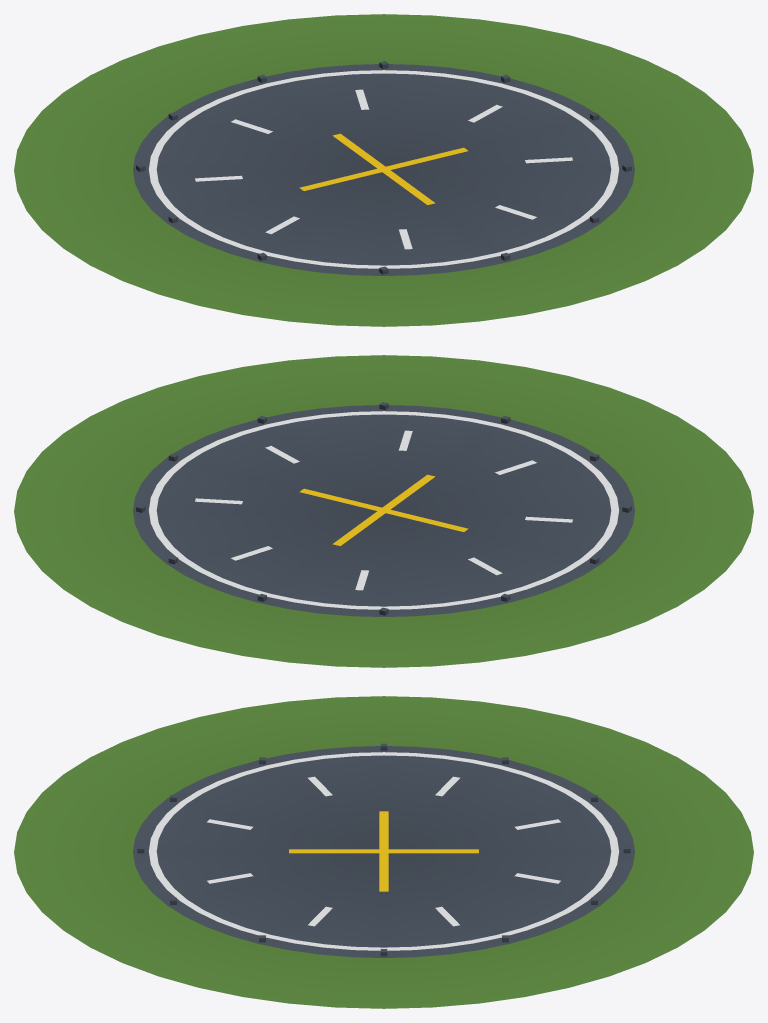
File: hangar.glb
3 views of the same model, one above another, from view 1: azimuth 30°, elevation 25°; view 2: azimuth 150°, elevation 25°; view 3: azimuth 270°, elevation 25° (orthographic).
Visible parts, largest first — view 1: palette_ground, tarmac, paint_white, paint_yellow; view 2: palette_ground, tarmac, paint_white, paint_yellow; view 3: palette_ground, tarmac, paint_white, paint_yellow.
Part boxes in pixels (x1,y1,x2,y2): palette_ground: (14,14,753,326); tarmac: (133,61,634,275); paint_white: (148,70,619,268); paint_yellow: (299,133,467,204); palette_ground: (14,355,753,667); tarmac: (133,402,634,616); paint_white: (148,411,619,609); paint_yellow: (300,474,468,545); palette_ground: (14,696,753,1008); tarmac: (133,743,634,957); paint_white: (148,752,619,950); paint_yellow: (289,811,478,891).
Size of the model in its own units: 28 by 0.2 by 28.
